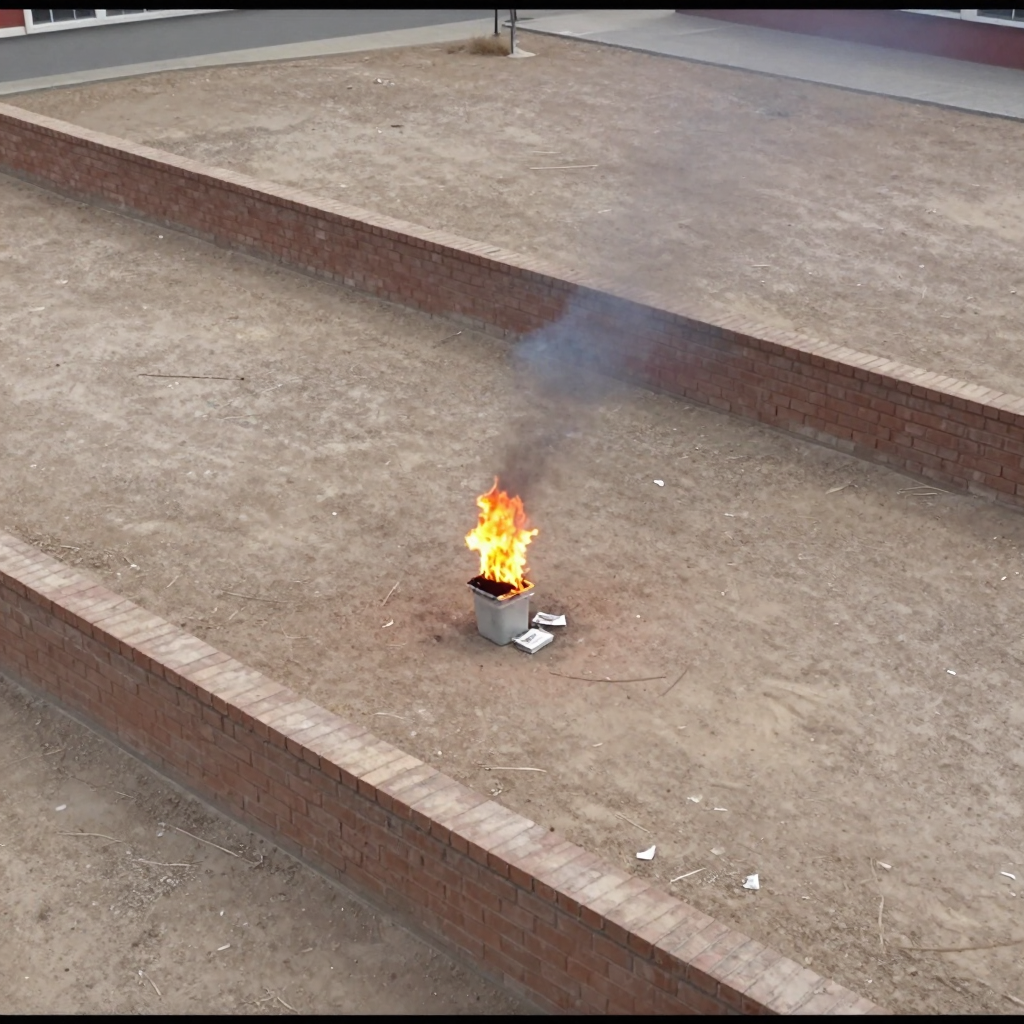Arson: (464, 485, 531, 596)
Explosion: (487, 275, 677, 493)
